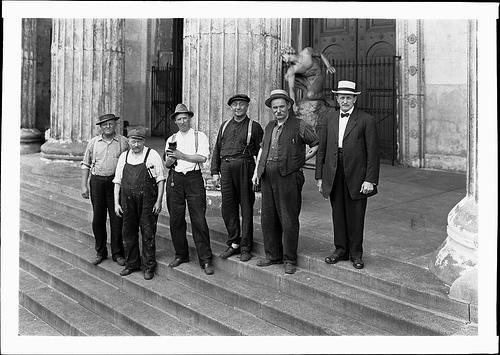person: (248, 89, 323, 274), (315, 76, 382, 269), (162, 103, 224, 277), (208, 93, 266, 262), (79, 114, 135, 263), (112, 123, 163, 281)
